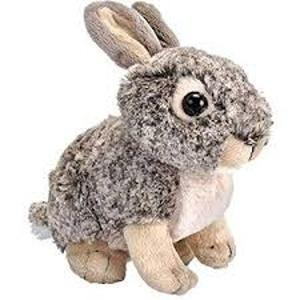rabbit: (29, 2, 272, 293)
